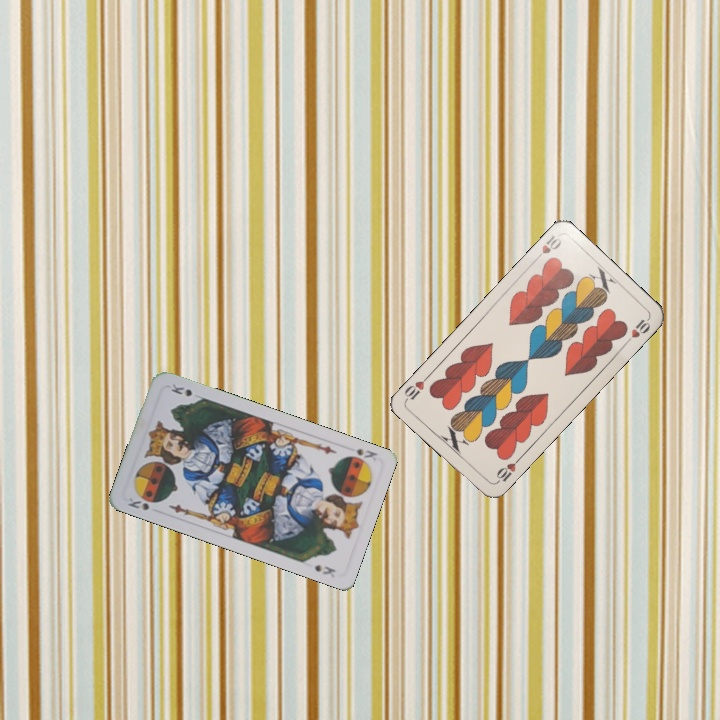H10: (530, 231, 564, 264), (492, 453, 523, 486)
SK: (343, 444, 380, 466), (123, 494, 152, 513)
